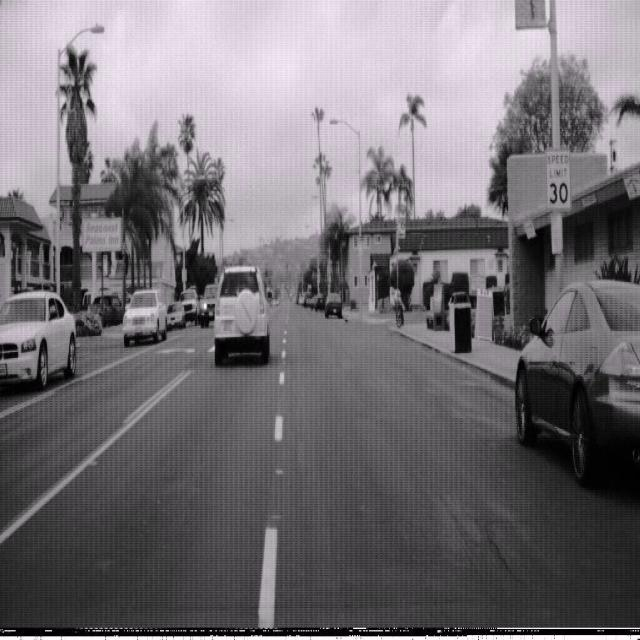speedLimit30: (545, 146, 572, 212)
